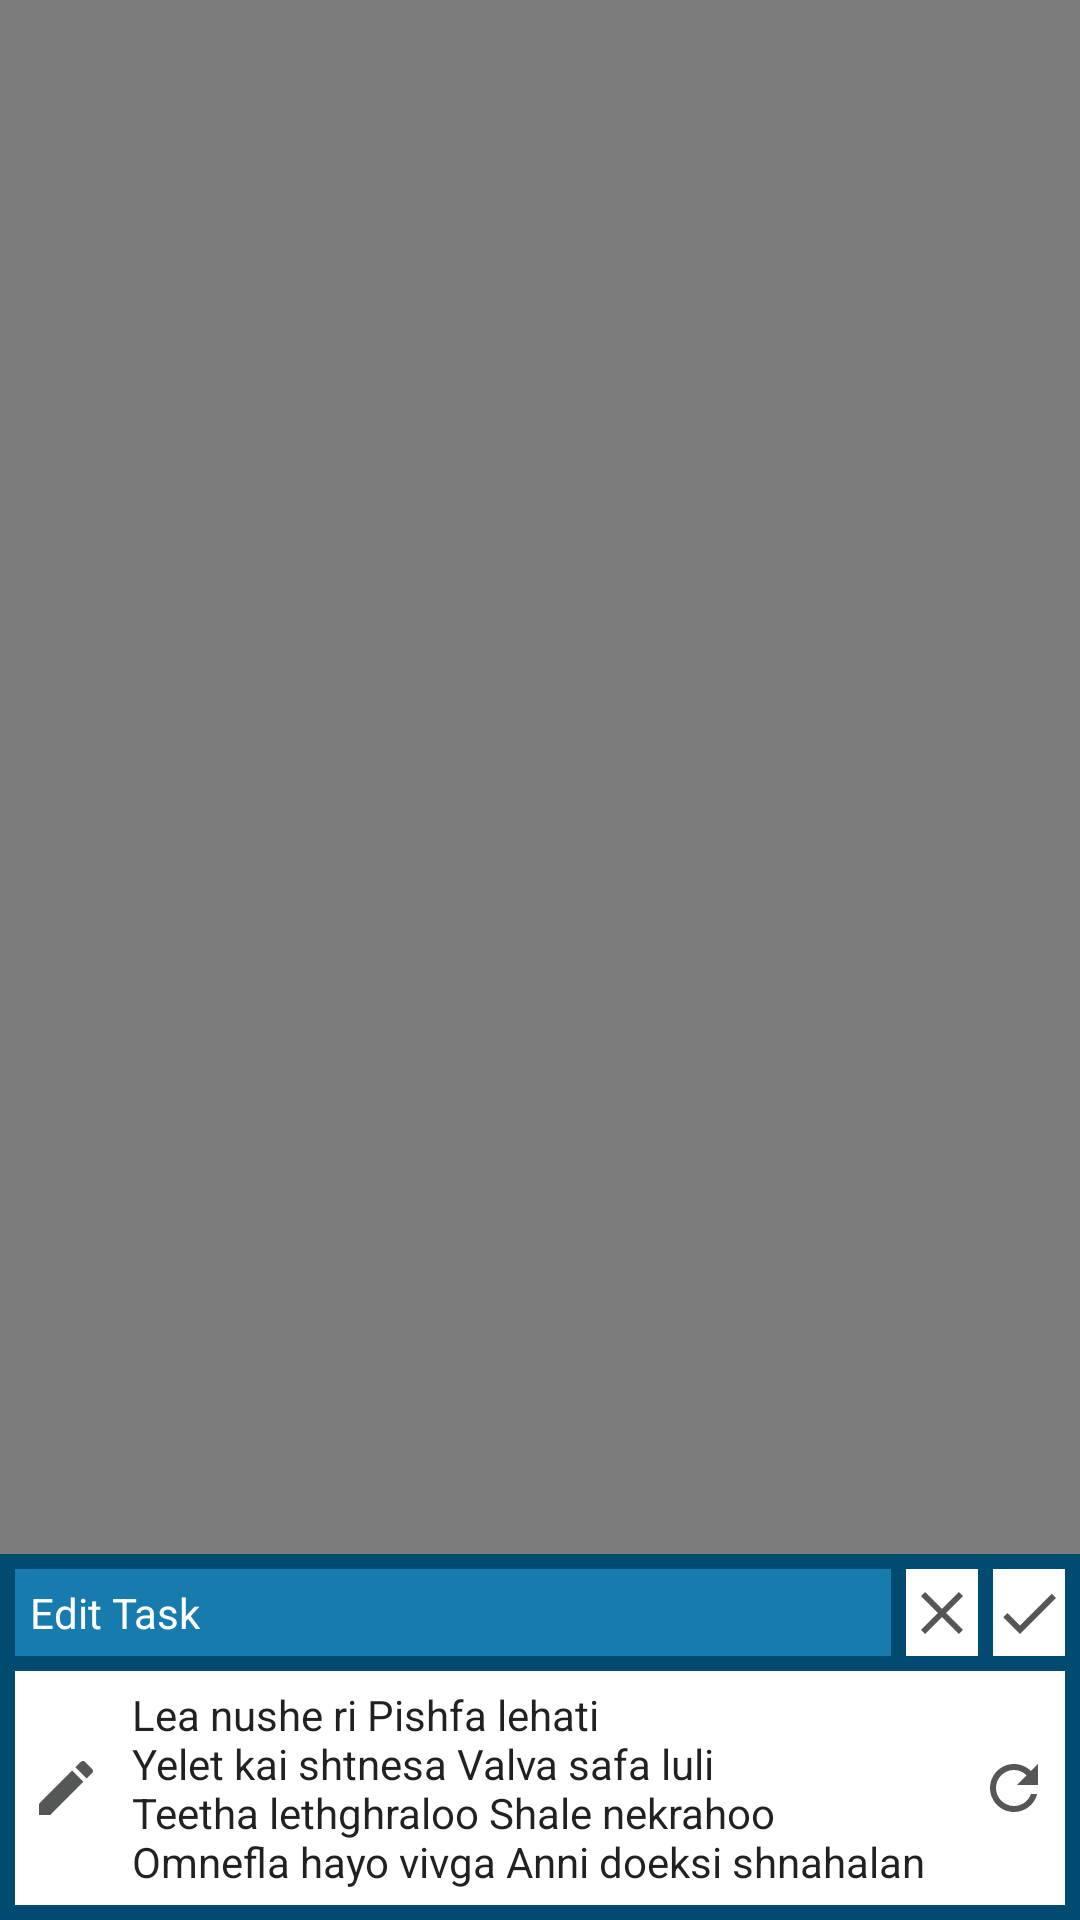

Screen size 1080 × 1920. Icon name, then its center in pixels as [x,y]:
check: [1029,1612]
close: [942,1612]
reset parameters: [1014,1788]
